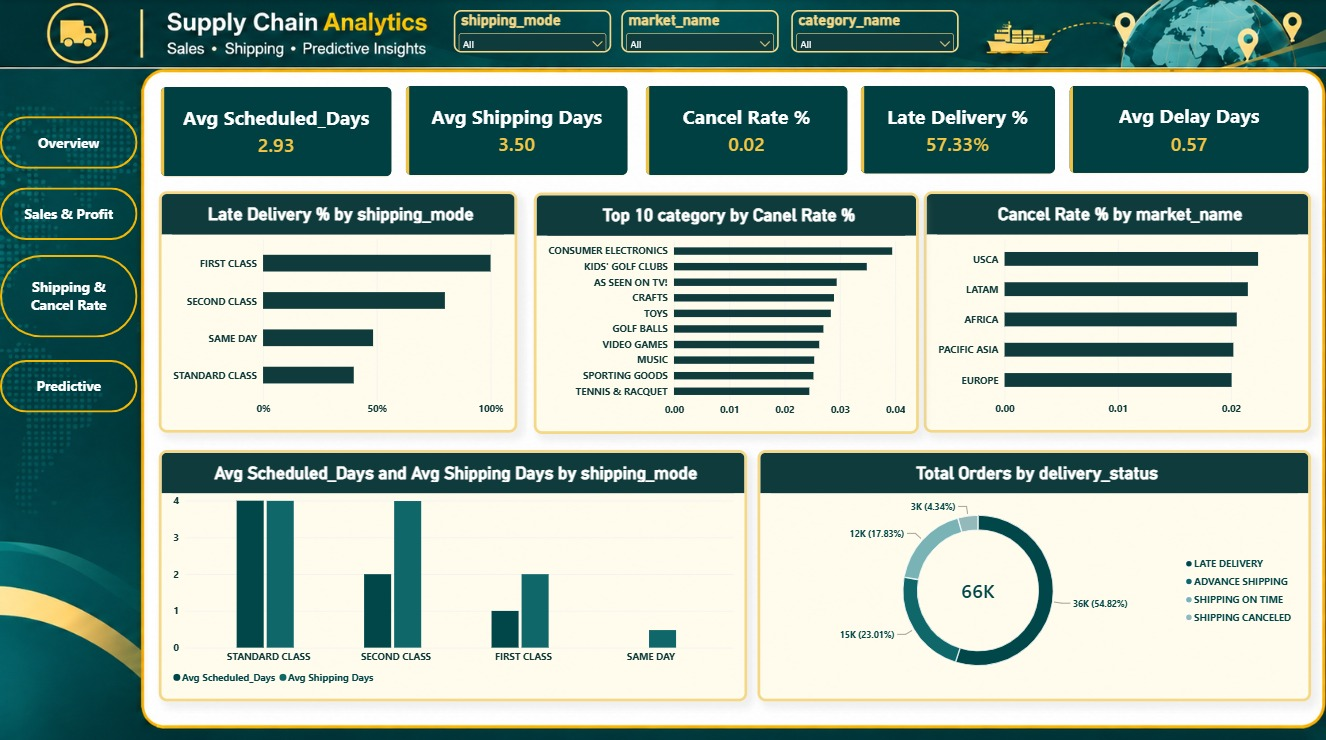

The dashboard page shown, as its layout file describes it:
{"tool":"powerbi","page":{"name":"Shipping & Cancel Rate","canvas":[1920,1080],"ordinal":2},"visuals":[{"type":"clusteredColumnChart","fields":{"Category":["dim_shipping_mode.shipping_mode"],"Y":["Measures (2).Avg Scheduled_Days","Measures (2).Avg Shipping Days"]},"box":[228.8,673.6,852.4,363.7],"z":0},{"type":"clusteredBarChart","fields":{"Category":["dim_shipping_mode.shipping_mode"],"Y":["Measures (2).Late Delivery %"]},"box":[228.8,308.7,519.4,349.3],"z":1000},{"type":"clusteredBarChart","fields":{"Category":["dim_market.market_name"],"Y":["Measures (2).Cancel Rate %"]},"box":[1340,306.9,561,349.3],"z":2000},{"type":"clusteredBarChart","title":"Top 10 category by Canel Rate %","fields":{"Category":["vw_dim_product_flat.category_name"],"Y":["Measures (2).Cancel Rate %"]},"box":[771.7,308.7,557.4,349.3],"z":3000},{"type":"donutChart","fields":{"Category":["dim_delivery_status.delivery_status"],"Y":["Measures (2).Total Orders"]},"box":[1096.7,673.6,801.7,363.7],"z":4000},{"type":"cardVisual","fields":{"Data":["Measures (2).Late Delivery %"]},"box":[1245.6,167,287.7,133.9],"z":5000},{"type":"cardVisual","fields":{"Data":["Measures (2).Cancel Rate %"]},"box":[931.5,165.2,298.6,135.7],"z":6000},{"type":"cardVisual","fields":{"Data":["Measures (2).Avg Shipping Days"]},"box":[584.7,163.4,327.5,135.7],"z":7000},{"type":"cardVisual","fields":{"Data":["Measures (2).Avg Scheduled_Days"]},"box":[228.8,165.2,340.2,135.7],"z":8000},{"type":"cardVisual","fields":{"Data":["Measures (2).Avg Delay Days"]},"box":[1547,168.9,352.9,132.1],"z":9000},{"type":"slicer","fields":{"Values":["dim_shipping_mode.shipping_mode"]},"box":[656.9,14.5,228,61.5],"z":10000},{"type":"slicer","fields":{"Values":["dim_market.market_name"]},"box":[899.4,14.5,228,61.5],"z":11000},{"type":"slicer","fields":{"Values":["vw_dim_product_flat.category_name"]},"box":[1145.5,14.5,242.5,61.5],"z":12000},{"type":"actionButton","box":[0,168.3,199.1,76],"z":13000},{"type":"actionButton","box":[0,271.4,199.1,76],"z":14000},{"type":"actionButton","box":[0,369.2,199.1,119.4],"z":15000},{"type":"actionButton","box":[0,521.2,199.1,76],"z":16000},{"type":"htmlContent443BE3AD55E043BF878BED274D3A6855","fields":{"content":["Measures (2).Tag1"]},"box":[223.3,110.8,1675.9,52.7],"z":17000}]}

Visuals, with their boxes in screenshot pixels (x1, y1, x2, y2), scaled from the page's 1920x1080 canvas onto the 1326x740 screenshot:
clusteredColumnChart - dim_shipping_mode.shipping_mode x Measures (2).Avg Scheduled_Days: [x1=158, y1=462, x2=747, y2=711]
clusteredBarChart - dim_shipping_mode.shipping_mode x Measures (2).Late Delivery %: [x1=158, y1=212, x2=517, y2=451]
clusteredBarChart - dim_market.market_name x Measures (2).Cancel Rate %: [x1=925, y1=210, x2=1313, y2=450]
"Top 10 category by Canel Rate %" clusteredBarChart: [x1=533, y1=212, x2=918, y2=451]
donutChart - dim_delivery_status.delivery_status x Measures (2).Total Orders: [x1=757, y1=462, x2=1311, y2=711]
cardVisual - Measures (2).Late Delivery %: [x1=860, y1=114, x2=1059, y2=206]
cardVisual - Measures (2).Cancel Rate %: [x1=643, y1=113, x2=850, y2=206]
cardVisual - Measures (2).Avg Shipping Days: [x1=404, y1=112, x2=630, y2=205]
cardVisual - Measures (2).Avg Scheduled_Days: [x1=158, y1=113, x2=393, y2=206]
cardVisual - Measures (2).Avg Delay Days: [x1=1068, y1=116, x2=1312, y2=206]
slicer - dim_shipping_mode.shipping_mode: [x1=454, y1=10, x2=611, y2=52]
slicer - dim_market.market_name: [x1=621, y1=10, x2=779, y2=52]
slicer - vw_dim_product_flat.category_name: [x1=791, y1=10, x2=959, y2=52]
actionButton: [x1=0, y1=115, x2=138, y2=167]
actionButton: [x1=0, y1=186, x2=138, y2=238]
actionButton: [x1=0, y1=253, x2=138, y2=335]
actionButton: [x1=0, y1=357, x2=138, y2=409]
htmlContent443BE3AD55E043BF878BED274D3A6855 - Measures (2).Tag1: [x1=154, y1=76, x2=1312, y2=112]
